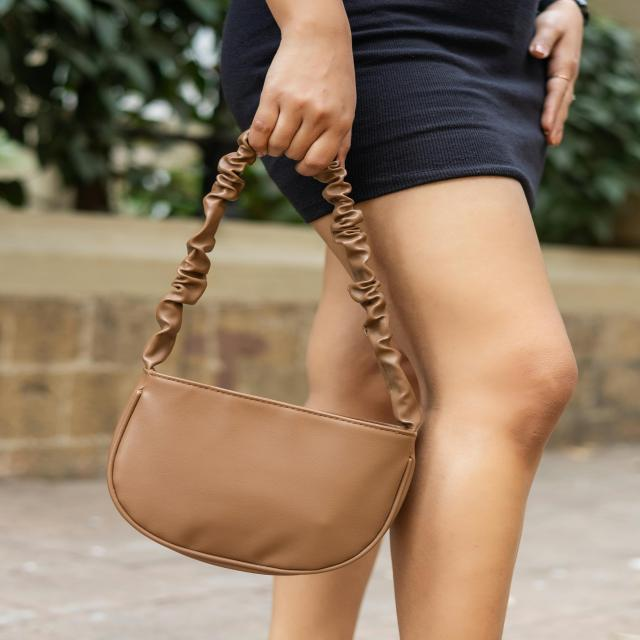bolsa: (101, 102, 424, 574)
